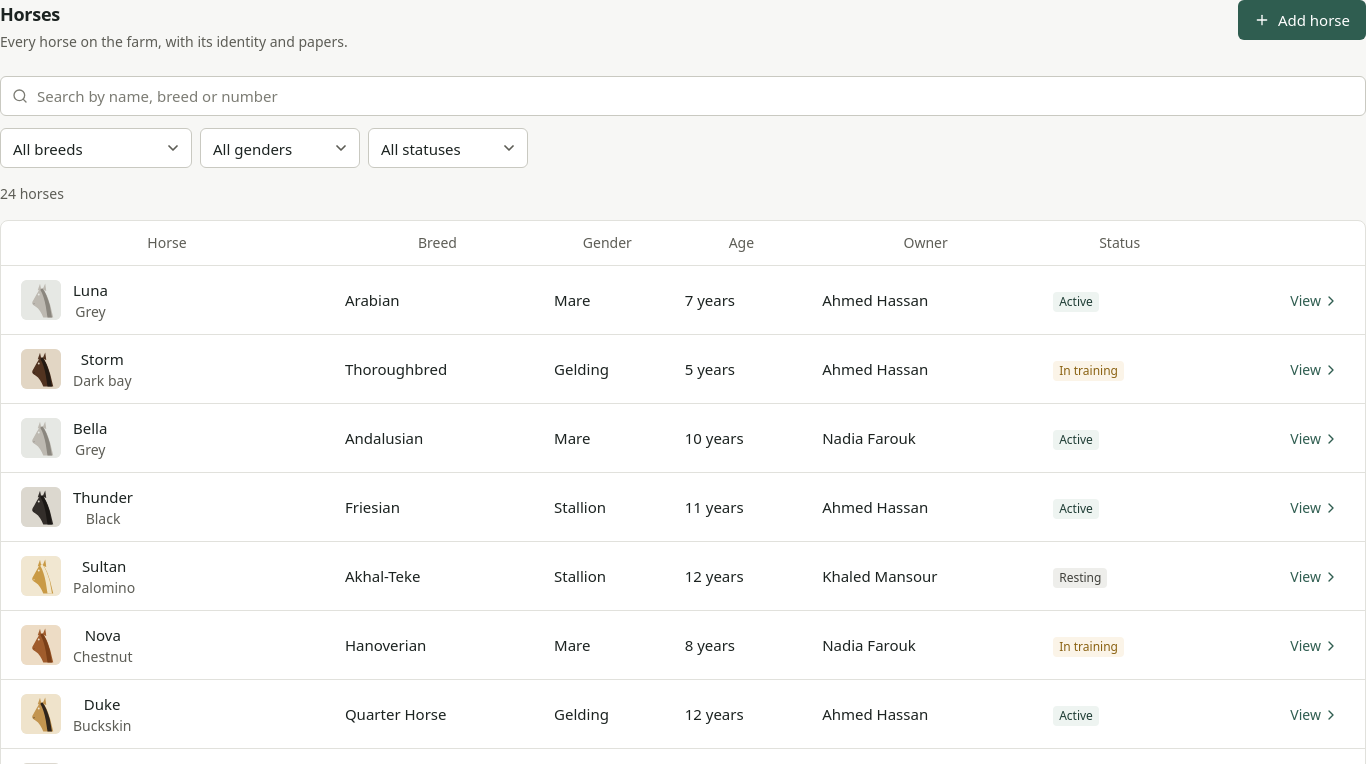
HorseListPage › filters by breed
The width and height of the screenshot is (1366, 764).
Select "Arabian" in the 1st dropdown named "filter by breed" at (96, 148), box [0, 128, 192, 168]
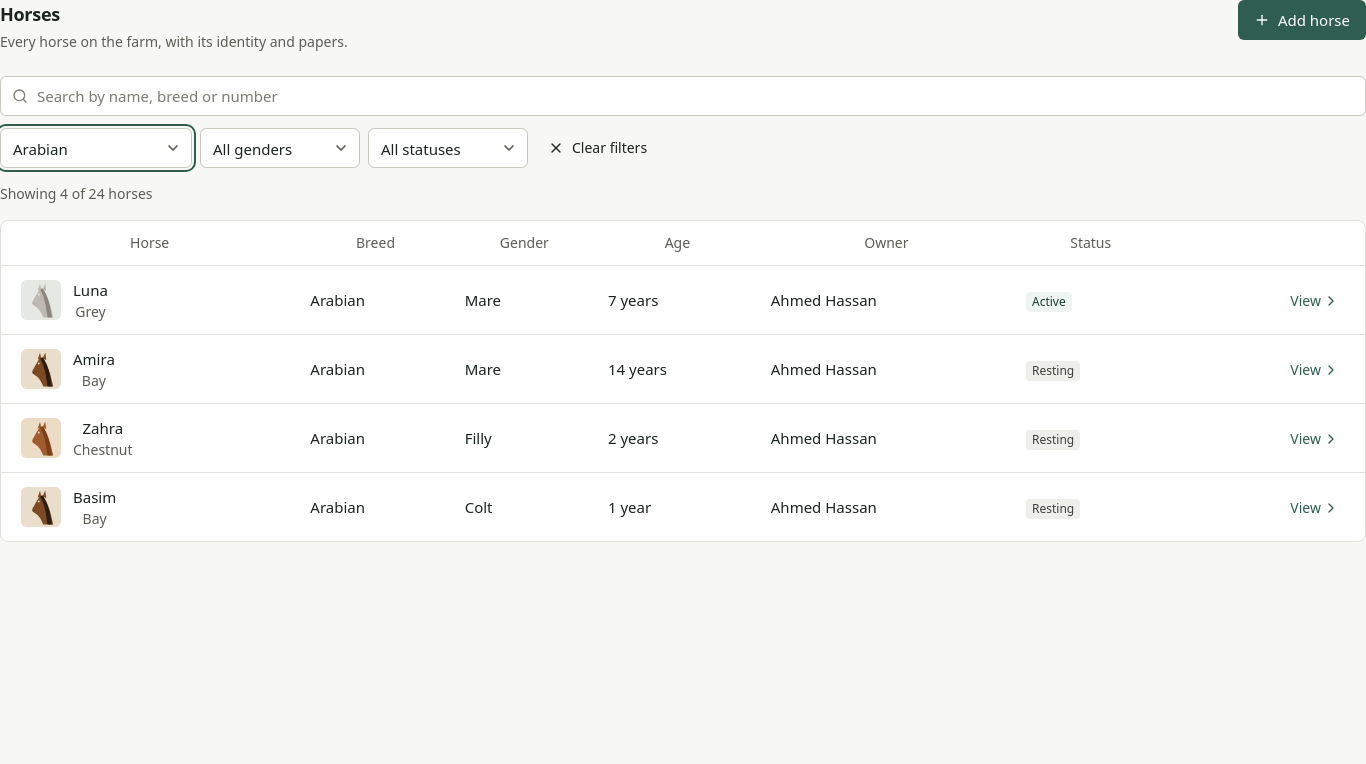
Result: the message reads "Showing 4 of 24 horses" at [0, 184, 152, 203]
